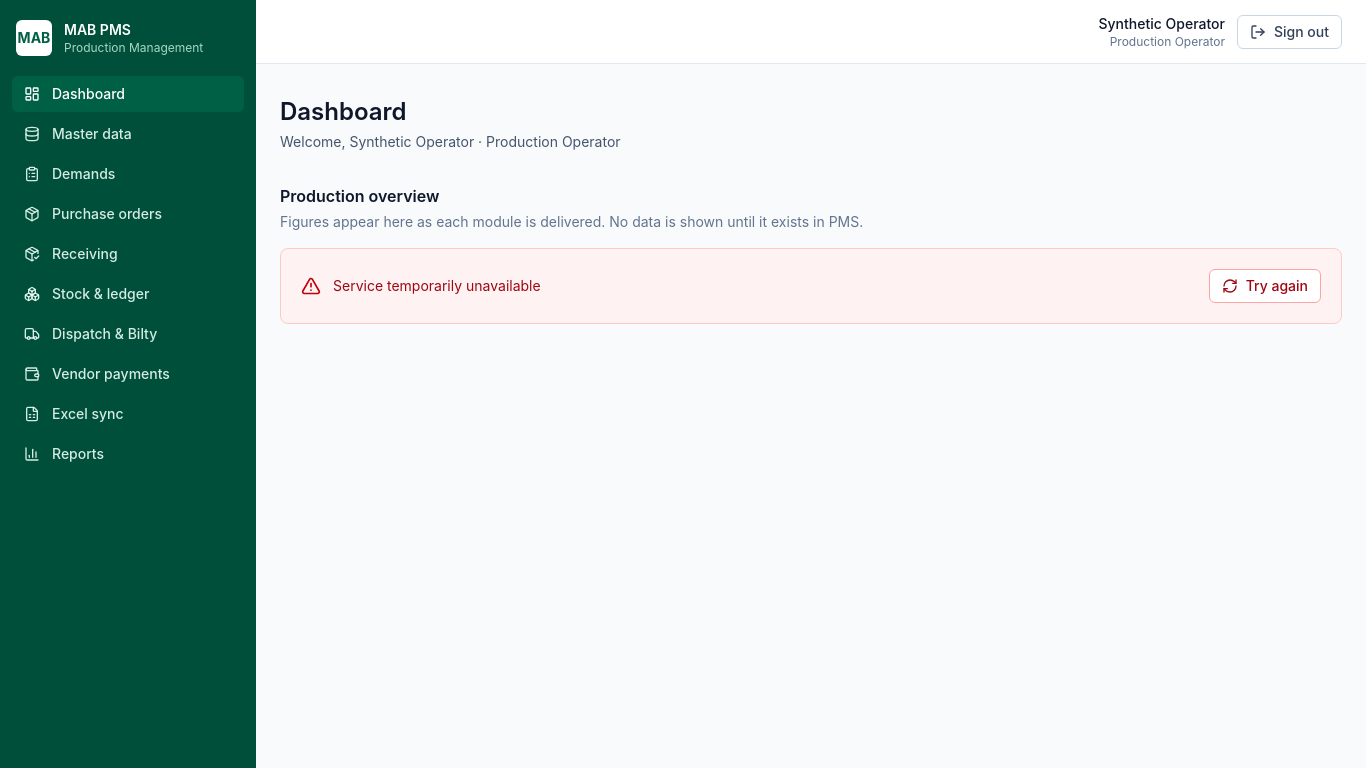
Test: DashboardPage › shows an error with a working retry
The width and height of the screenshot is (1366, 768).
expect the message shows "Service temporarily unavailable": met, box [333,277,541,294]
Click the button "Try again" at (1265, 286), box [1209,269,1321,303]
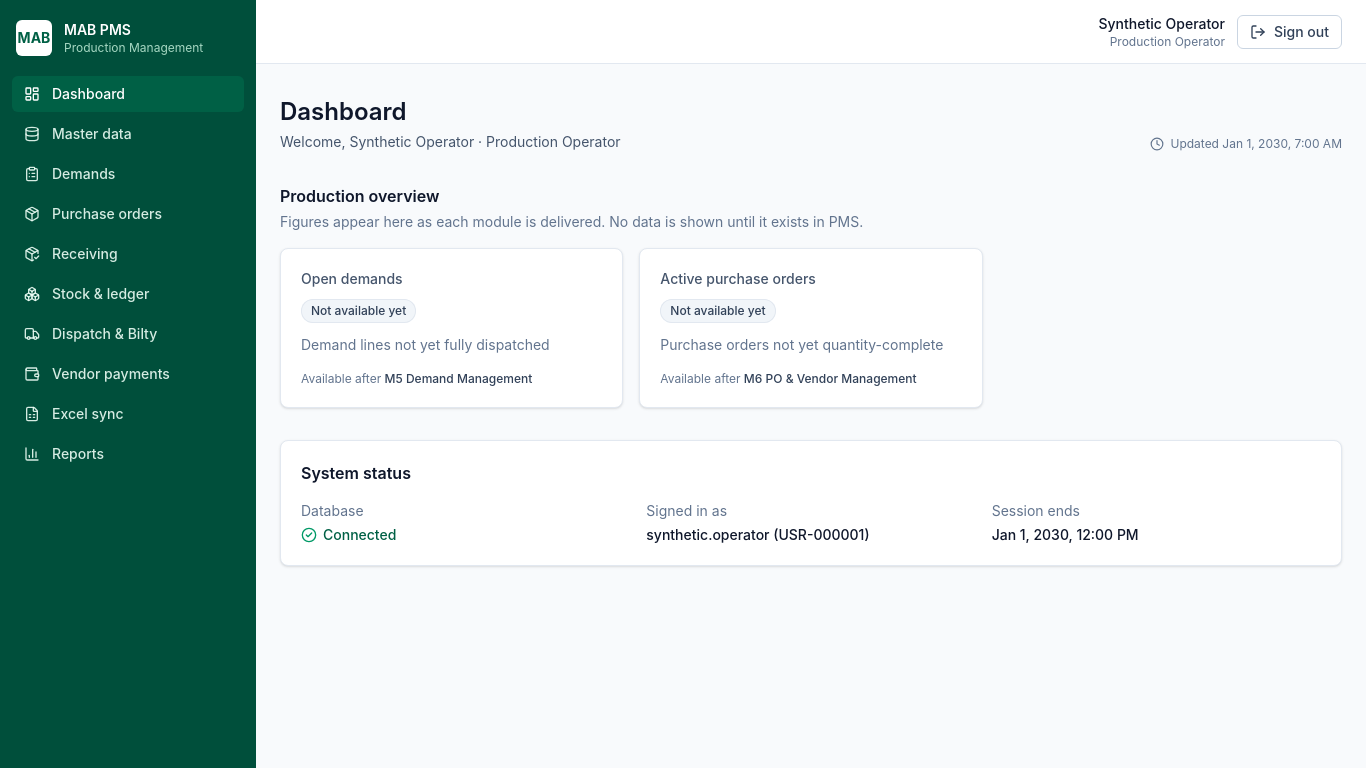
expect the element "Open demands" is shown: met, box [280,248,623,408]
